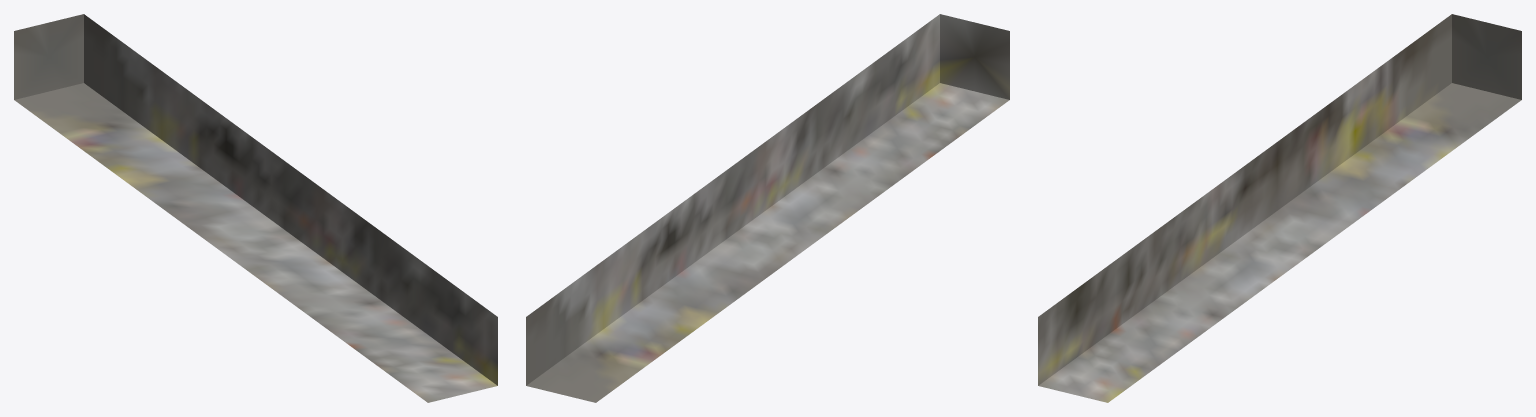
File: building.glb
3 renders of one model, left to right at view 1: azimuth 30°, elevation 25°; view 2: azimuth 150°, elevation 25°; view 3: azimuth 330°, elevation 25°, orthographic.
Parts seen in each view (by area): view 1: geometry_0; view 2: geometry_0; view 3: geometry_0.
Boxes of the visible parts, box(x1,y1,x2,y2) form: geometry_0: box(14, 14, 497, 402); geometry_0: box(526, 14, 1009, 402); geometry_0: box(1038, 14, 1521, 402).
Size of the model in its own units: 2.22 by 2.1 by 22.83.
